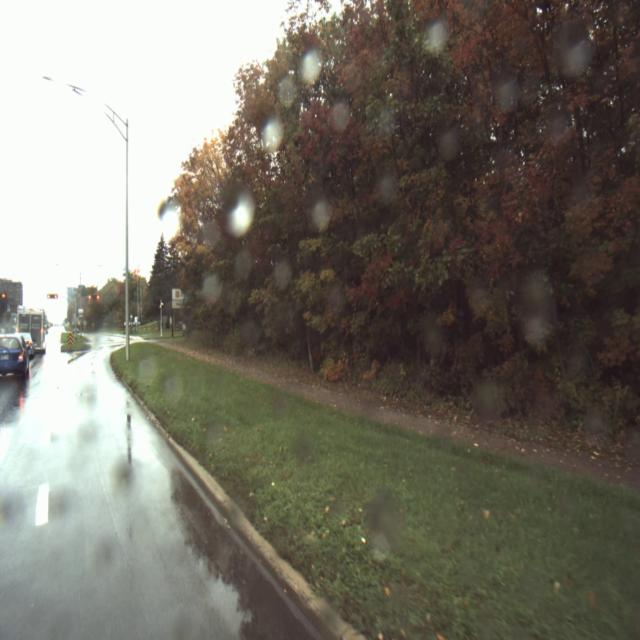car: (0, 332, 36, 380)
trafficLight-Red: (88, 294, 100, 302), (47, 294, 58, 299), (1, 292, 7, 299)
